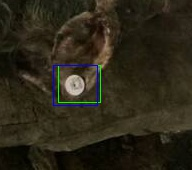text: (58, 65, 100, 102)
